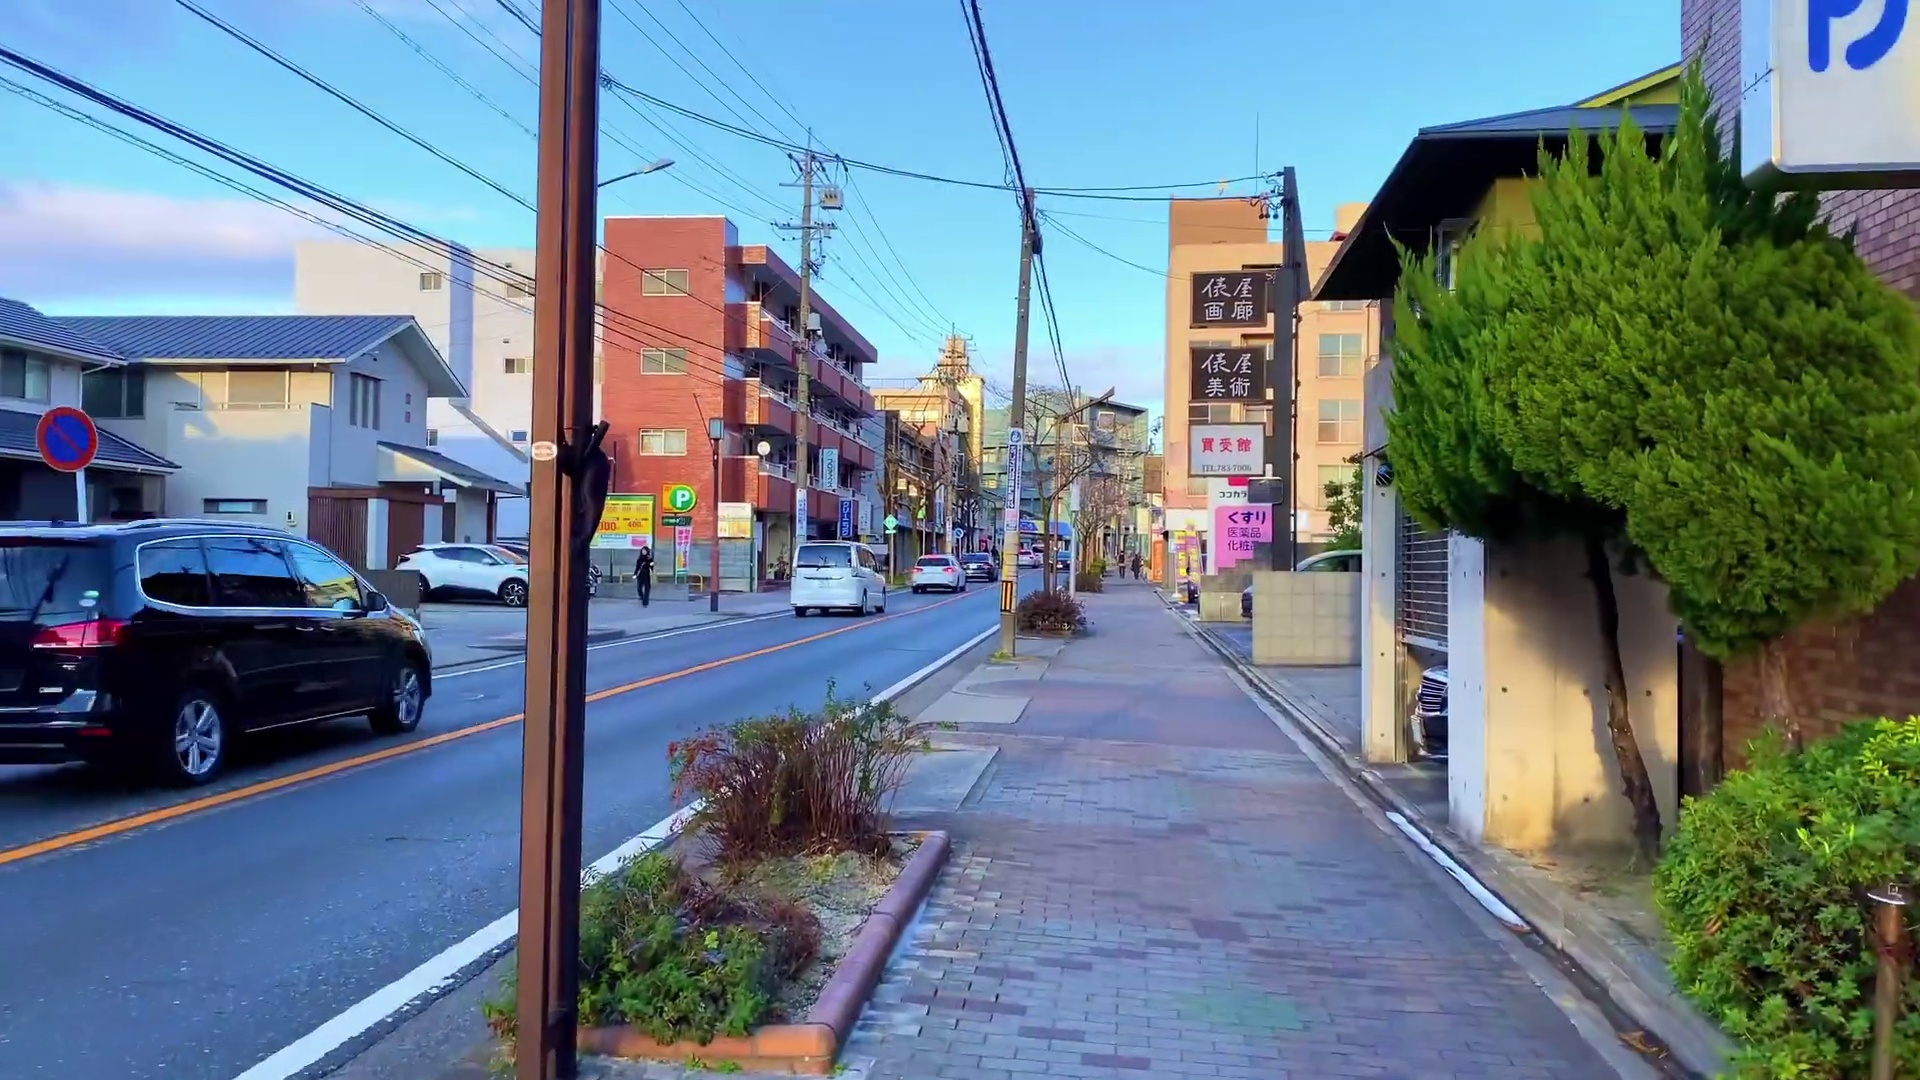car: (1, 521, 434, 785), (789, 535, 891, 617)
